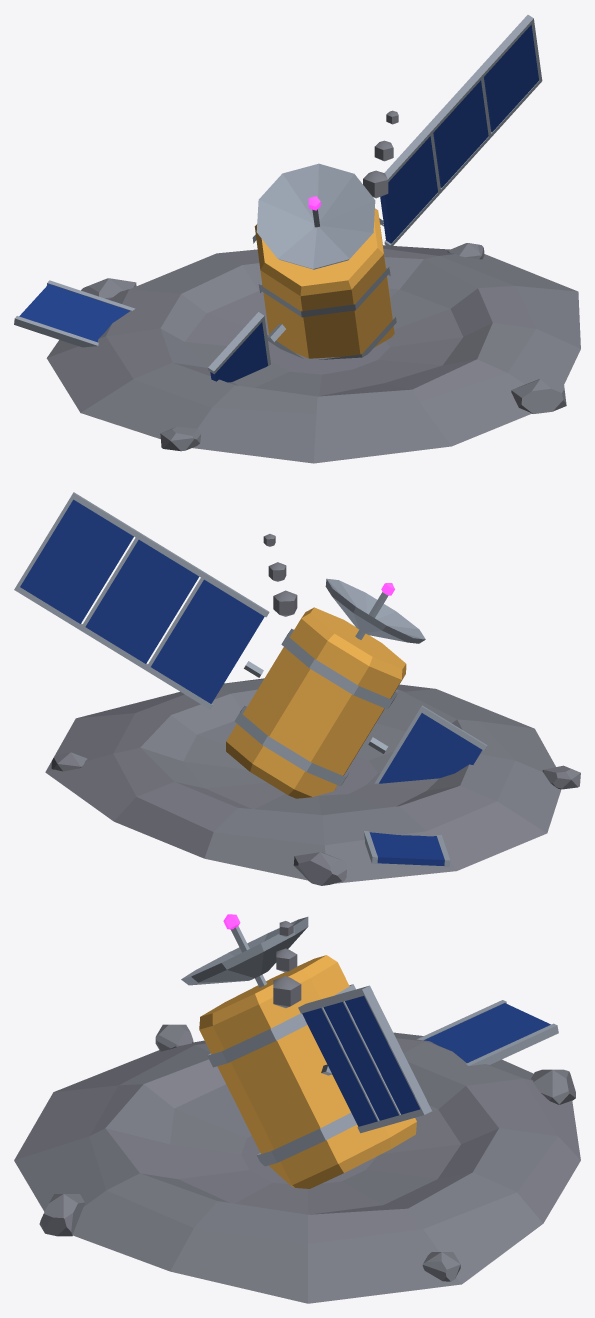
File: crashed_satellite.glb
3 renders of one model, top to bottom at view 1: azimuth 30°, elevation 25°; view 2: azimuth 150°, elevation 25°; view 3: azimuth 270°, elevation 25°, orthographic. The views are drawn at different scales.
Visible parts, largest first — view 1: crashed_satellite; view 2: crashed_satellite; view 3: crashed_satellite.
Boxes of the visible parts, left/top/right/bottom form: crashed_satellite: left=14, top=15, right=580, bottom=463; crashed_satellite: left=14, top=492, right=580, bottom=885; crashed_satellite: left=14, top=914, right=580, bottom=1303.
Bounding box in the file's own units: 3.07 × 1.51 × 2.54.
